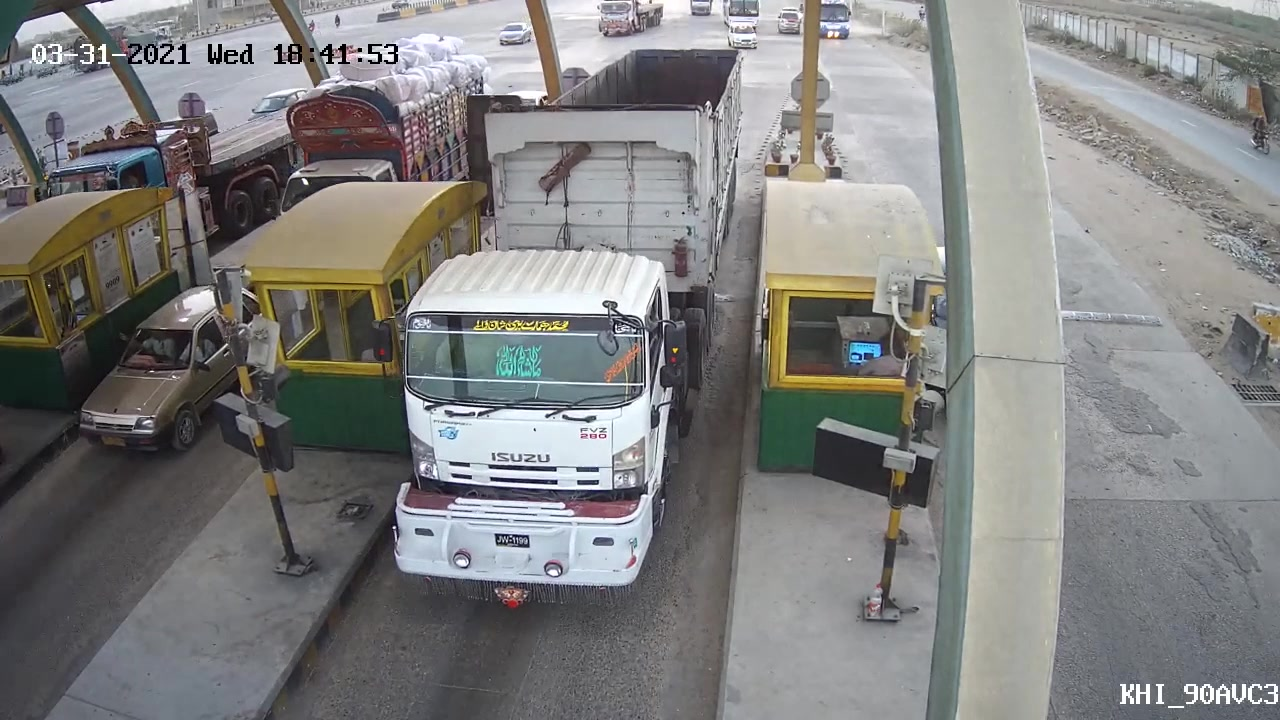F5: (368, 47, 752, 612)
